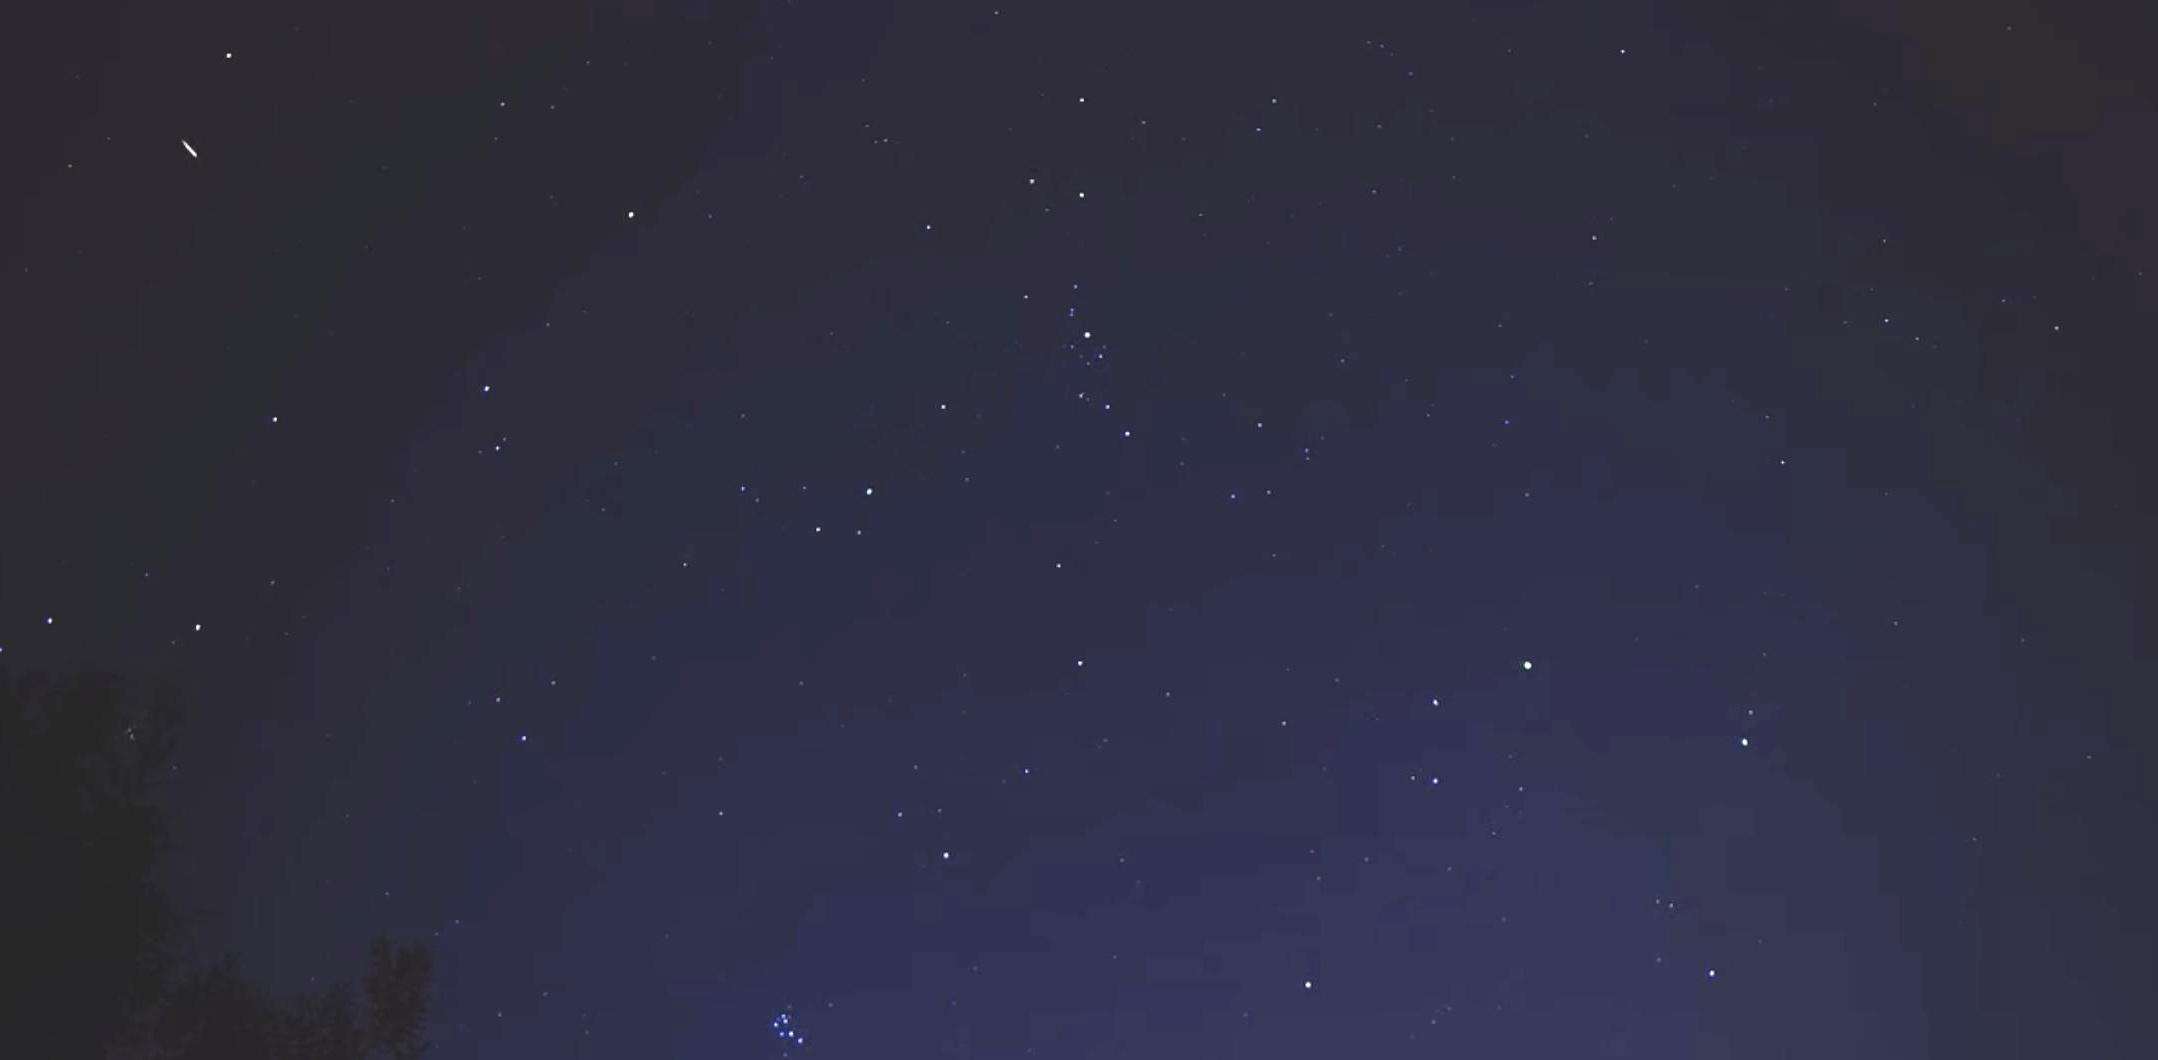meteorite: (149, 123, 228, 176)
